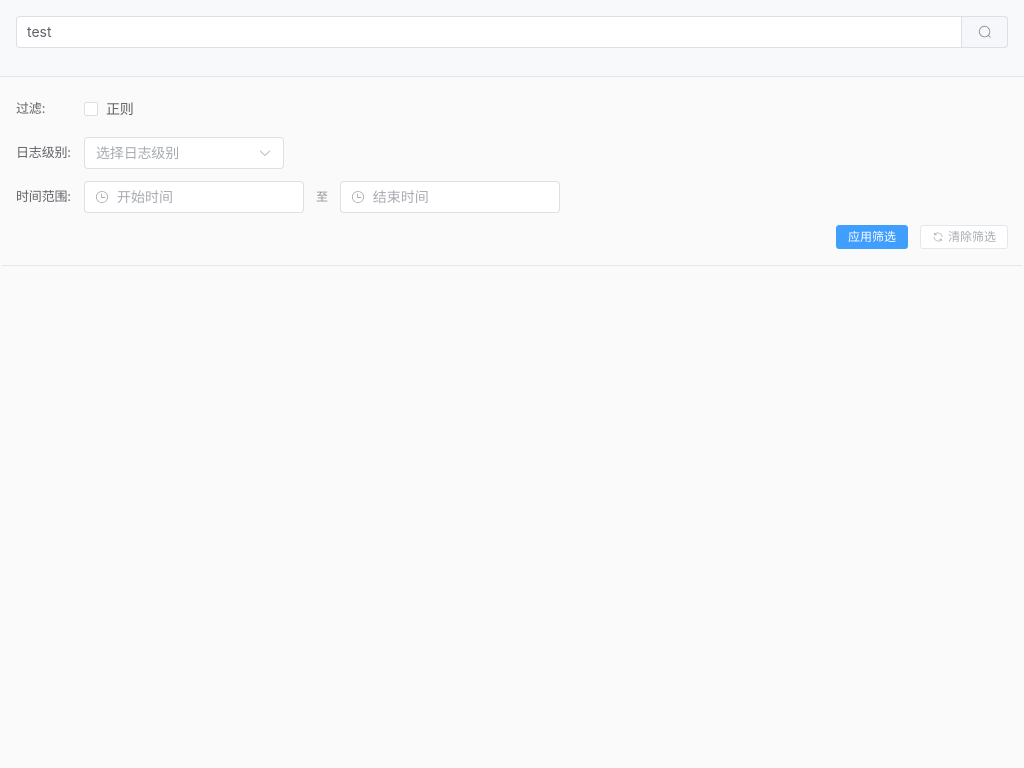
Scenario: SearchPanel › Search Results Display › should display search results after successful search
The image size is (1024, 768).
Click the button with test id "search-button".
click(985, 32)  # box [962,16,1008,48]
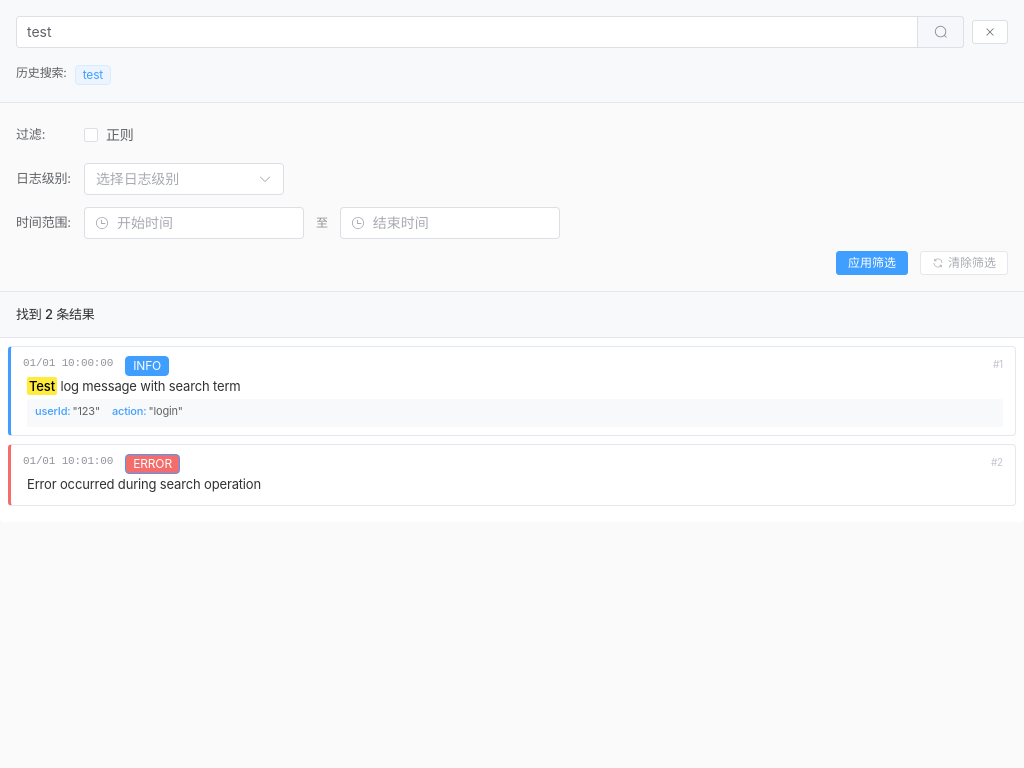
Check: the element with class "results-section" is shown, box [0,292,1023,522]
Check: the text with class "results-count" reads "找到 2 条结果", box [16,306,95,322]
Check: the number of elements with class "result-item" is 2, box [8,346,1016,436]; [8,444,1016,506]
